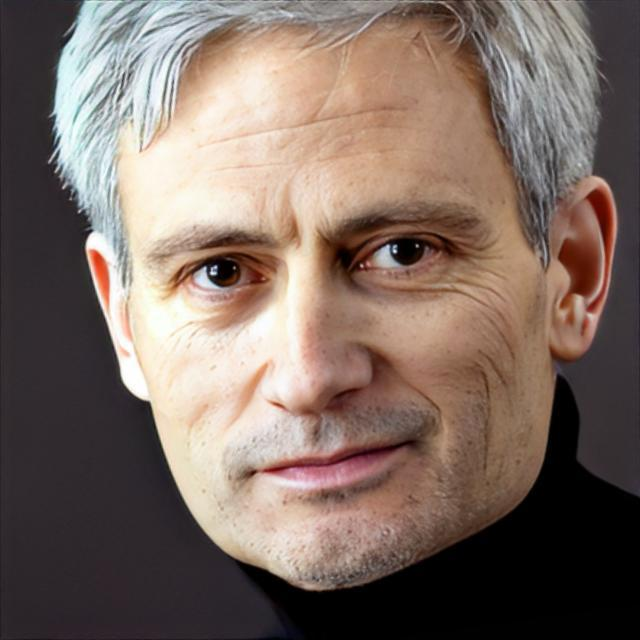content: (123, 0, 546, 595)
